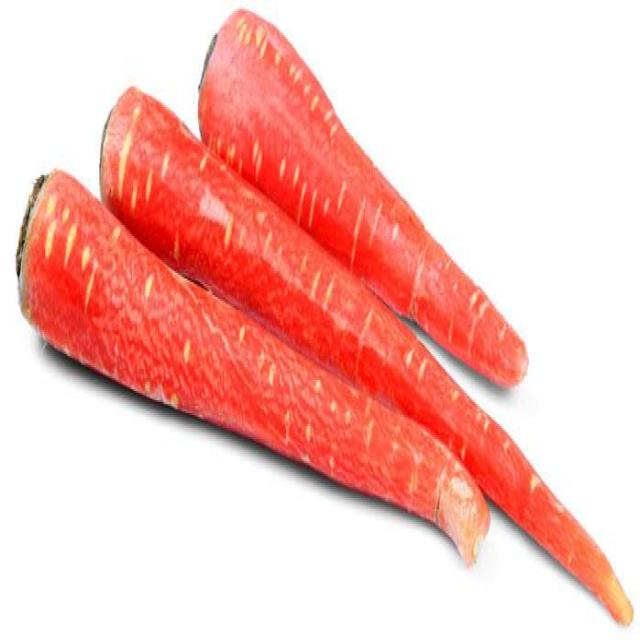Fresh_Carrot: (101, 88, 640, 628)
